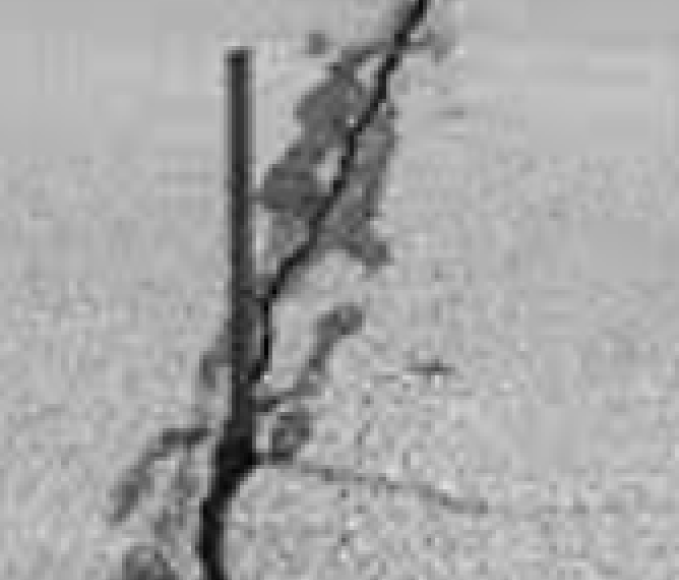Retak Memanjang: (120, 3, 429, 580)
